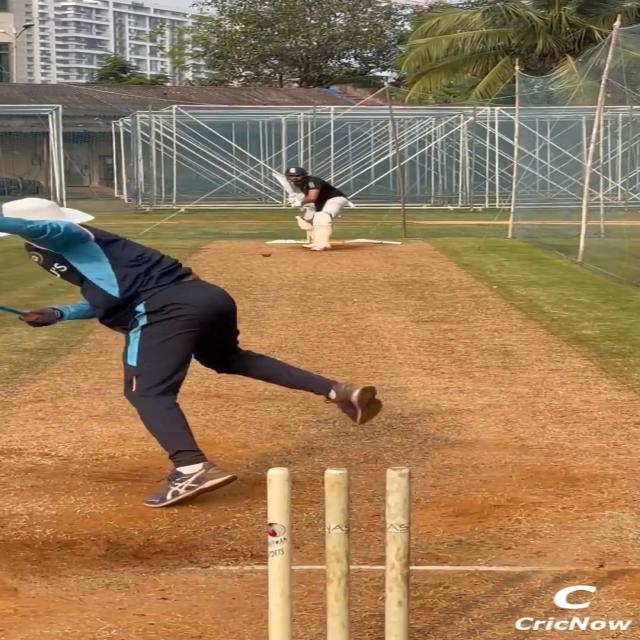ball: (262, 252, 272, 258)
stump: (263, 465, 413, 640)
